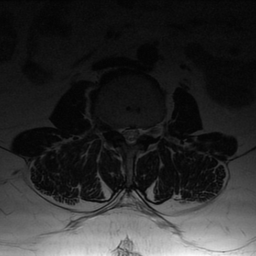CCS_normal: (126, 120, 133, 151)
LFS_stenosis: (141, 121, 148, 144)
LLS_normal: (133, 120, 141, 146)
RFS_stenosis: (109, 119, 118, 139)
RLS_normal: (118, 120, 126, 145)
